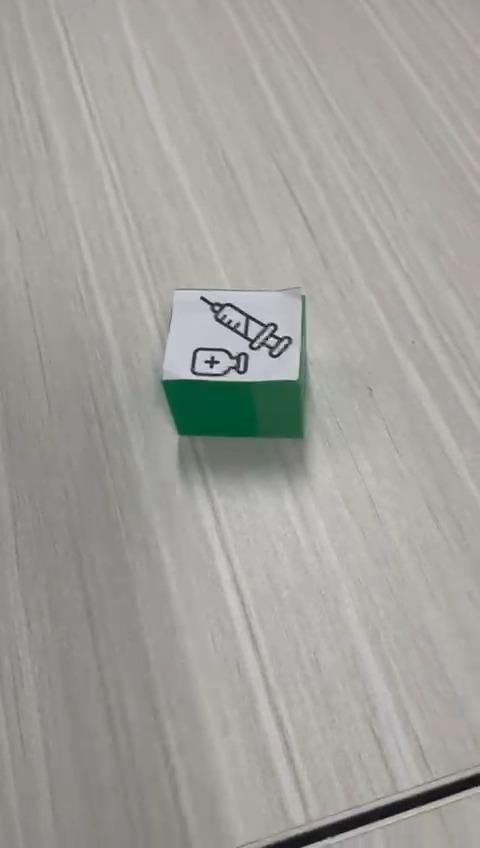antiseptic cream: (159, 285, 308, 439)
